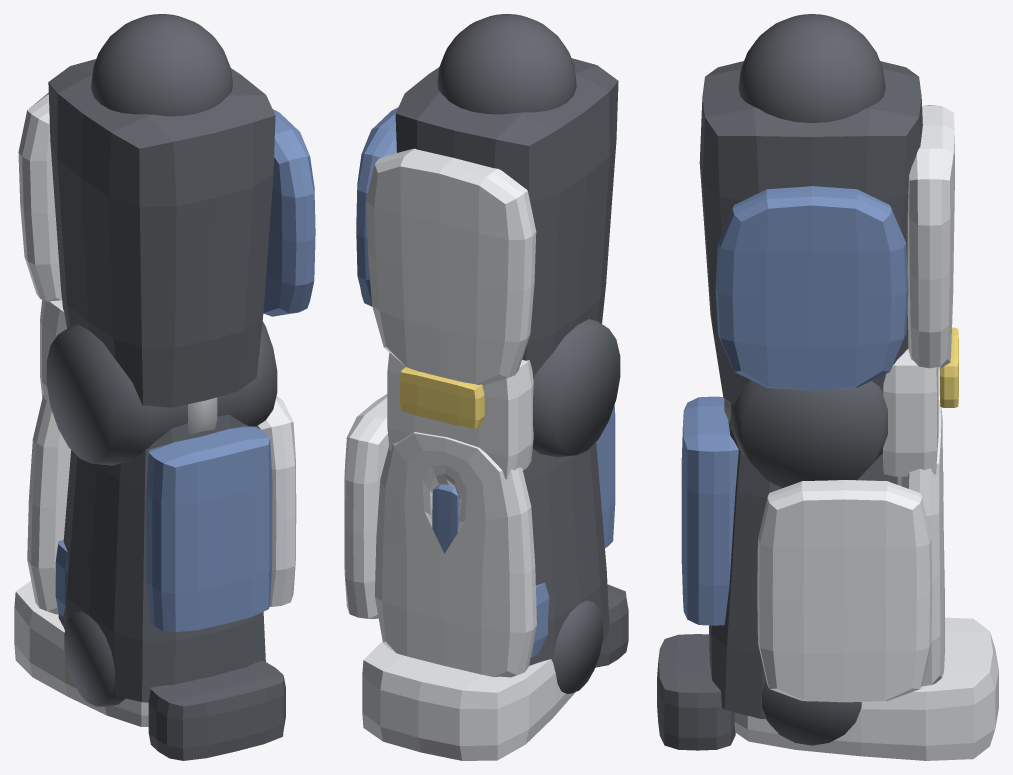
Rendered from leg_heavy_r.glb.
The picture shows the model from 3 angles, left to right: view 1: azimuth 30°, elevation 25°; view 2: azimuth 150°, elevation 25°; view 3: azimuth 270°, elevation 25°; orthographic projection. The views are drawn at different scales.
Visible parts, largest first — view 1: thigh, calf, shin, knee, hip_joint, heel, thigh_side, shin_plate, thigh_plate, foot, shin_armor2, ankle (+3 smaller); view 2: thigh_plate, shin_plate, thigh, foot, shin, hip_joint, knee, shin_armor2, knee_cap, knee_trim, ankle, thigh_side (+4 smaller); view 3: shin_armor2, thigh_side, thigh, foot, knee, hip_joint, calf, thigh_plate, shin, heel, knee_cap, shin_plate (+2 smaller).
Part boxes in pixels (<box>): thigh: <box>48,59,275,407</box>; calf: <box>146,426,272,631</box>; shin: <box>58,414,265,702</box>; knee: <box>46,321,277,465</box>; hip_joint: <box>91,14,232,116</box>; heel: <box>148,660,285,760</box>; thigh_side: <box>263,109,315,316</box>; shin_plate: <box>27,395,70,614</box>; thigh_plate: <box>18,93,61,301</box>; foot: <box>14,580,148,726</box>; shin_armor2: <box>256,396,296,606</box>; ankle: <box>64,611,125,706</box>; thigh_plate: <box>366,148,536,385</box>; shin_plate: <box>374,432,536,677</box>; thigh: <box>395,58,618,378</box>; foot: <box>362,642,575,760</box>; shin: <box>523,442,609,665</box>; hip_joint: <box>437,14,576,114</box>; knee: <box>532,319,620,457</box>; shin_armor2: <box>344,394,388,618</box>; knee_cap: <box>387,352,533,479</box>; knee_trim: <box>399,367,484,428</box>; ankle: <box>553,600,602,693</box>; thigh_side: <box>356,107,398,306</box>; shin_armor2: <box>757,480,932,702</box>; thigh_side: <box>715,186,908,391</box>; thigh: <box>699,61,922,404</box>; foot: <box>734,617,998,760</box>; knee: <box>731,380,887,488</box>; hip_joint: <box>738,14,885,122</box>; calf: <box>681,396,738,625</box>; thigh_plate: <box>907,105,954,368</box>; shin: <box>709,416,897,718</box>; heel: <box>657,634,735,750</box>; knee_cap: <box>883,349,938,476</box>; shin_plate: <box>897,400,944,686</box>.
Size of the model in its own units: 2.51 by 8.1 by 3.55.
